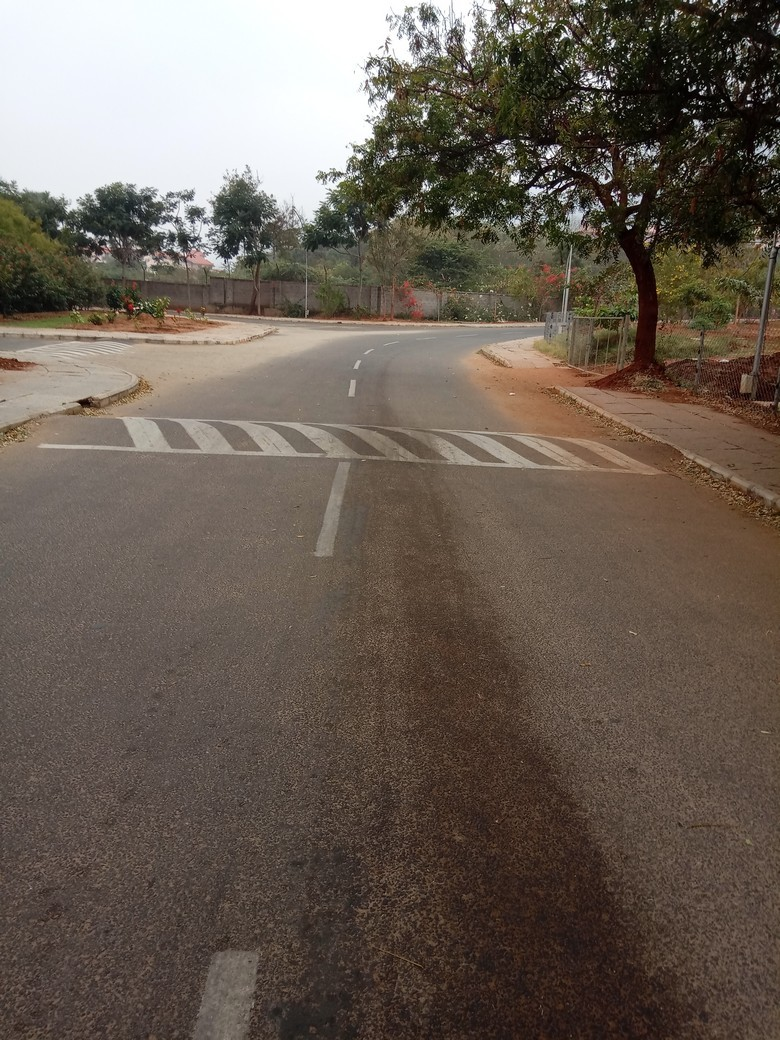bump: (1, 411, 676, 473)
